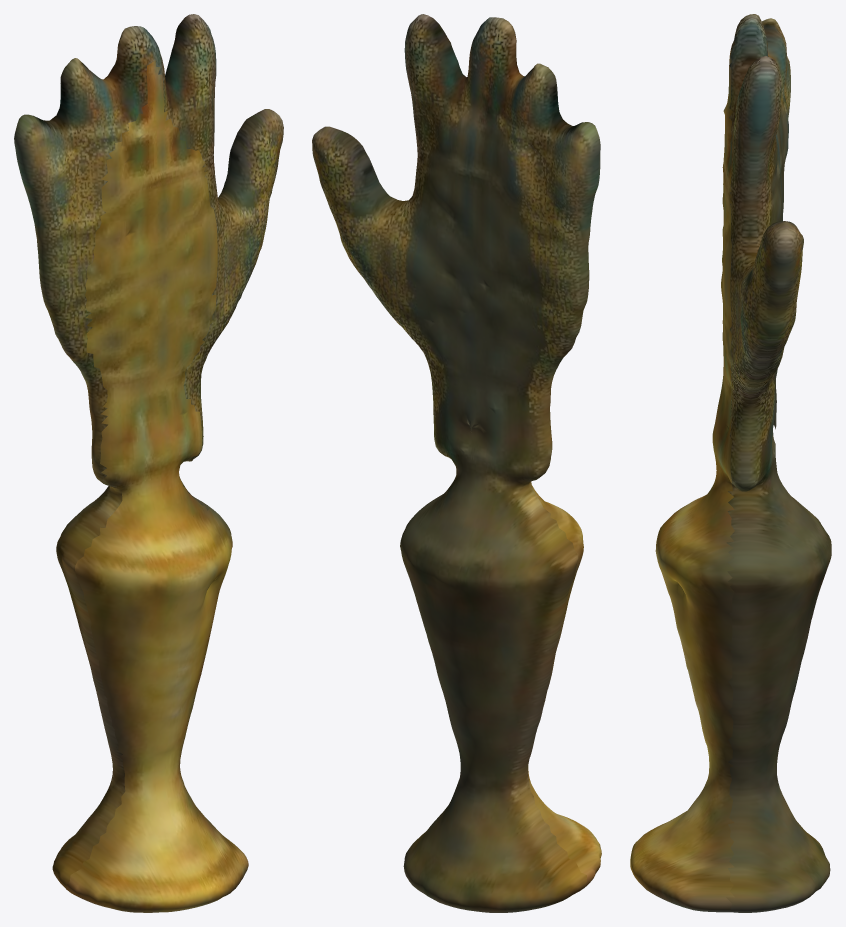
The model's file is kfl-2144.glb.
3 renders of one model, left to right at view 1: azimuth 30°, elevation 25°; view 2: azimuth 150°, elevation 25°; view 3: azimuth 270°, elevation 25°, orthographic. The views are drawn at different scales.
Parts seen in each view (by area): view 1: geometry_0; view 2: geometry_0; view 3: geometry_0.
Part boxes in pixels (left/top/right/bottom): geometry_0: left=14, top=14, right=283, bottom=912; geometry_0: left=312, top=14, right=601, bottom=912; geometry_0: left=630, top=14, right=831, bottom=912.
Size of the model in its own units: 0.3314 by 0.9915 by 0.2092.
1 material, 1 textured.
